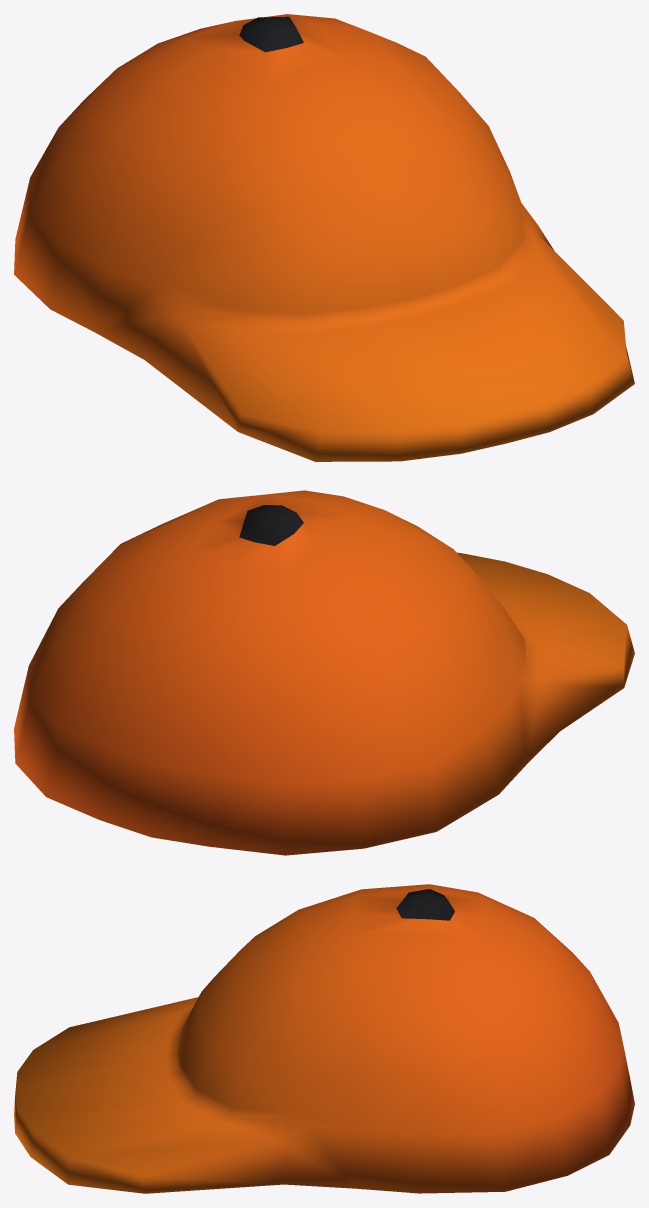
Rendered from stickman_cap.fbx.
The picture shows the model from 3 angles, top to bottom: view 1: azimuth 30°, elevation 25°; view 2: azimuth 150°, elevation 25°; view 3: azimuth 270°, elevation 25°; orthographic projection. The views are drawn at different scales.
Visible parts, largest first — view 1: Stickman_cap; view 2: Stickman_cap; view 3: Stickman_cap.
Part boxes in pixels (x1,y1,x2,y2): Stickman_cap: (14,14,634,461); Stickman_cap: (14,490,634,855); Stickman_cap: (14,884,634,1193).
Bounding box in the file's own units: 62.92 × 33.83 × 86.23.
Materials: 1 (1 with a texture image).
